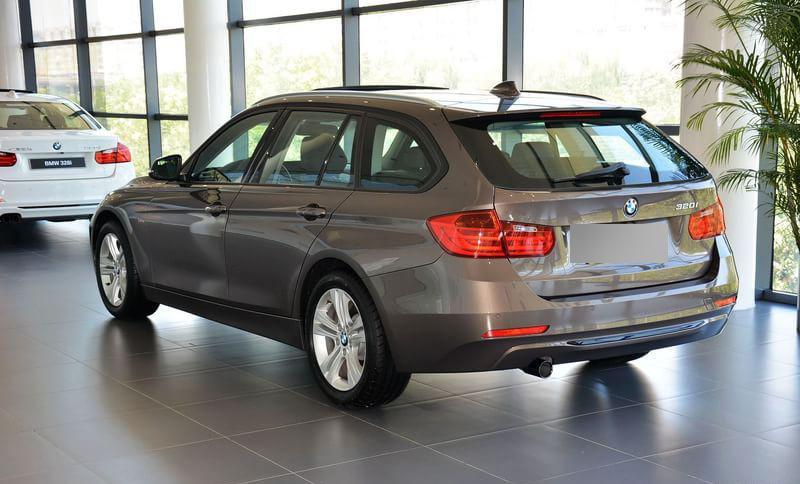Wagon: (89, 80, 741, 409)
